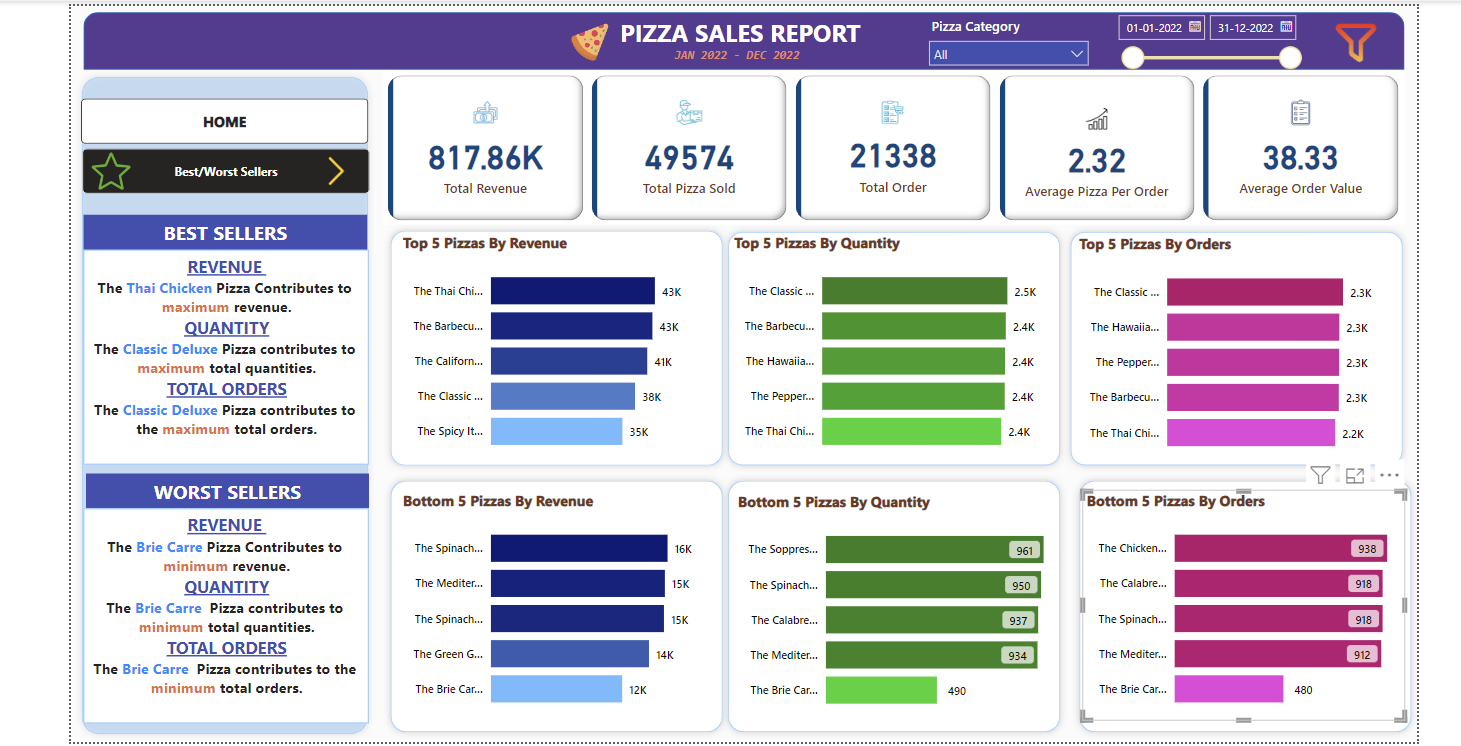

What the dashboard file says about the page in this screenshot:
{"tool":"powerbi","page":{"name":"Best/Worst Sellers","canvas":[1500,820],"ordinal":1},"visuals":[{"type":"shape","box":[4.2,71,334.1,747.6],"z":0},{"type":"cardVisual","fields":{"Data":["pizza_sales.Total_Revenue","pizza_sales.Total_Pizza_Sold","pizza_sales.Total_Order","pizza_sales.Average_Pizza_Per_Order","pizza_sales.Average_Order_Value"]},"box":[348,72.4,1137.4,171.2],"z":1000},{"type":"shape","box":[13.9,7,1471.5,64],"z":2000},{"type":"textbox","box":[590,6.7,310,65],"z":3000},{"type":"textbox","box":[666.7,40,168.3,30],"z":4000},{"type":"image","box":[535,13.3,86.7,53.3],"z":5000},{"type":"shape","box":[348.7,242.6,385.6,278],"z":6000},{"type":"textbox","box":[13.9,232.5,316,39],"z":7000},{"type":"textbox","box":[13.9,271.5,317.4,239.5],"z":8000},{"type":"textbox","box":[13.9,559.7,317.4,239.5],"z":9000},{"type":"textbox","box":[16.1,520.6,314.9,38.6],"z":10000},{"type":"slicer","fields":{"Values":["pizza_sales.pizza_category"]},"box":[944.7,6.4,197.6,65.9],"z":11000},{"type":"slicer","fields":{"Values":["pizza_sales.order_date"]},"box":[1153.6,0,224.9,72.3],"z":12000},{"type":"shape","box":[1105.4,244.2,385.6,276.4],"z":13000},{"type":"shape","box":[348.7,520.6,385.6,295.6],"z":14000},{"type":"shape","box":[724.6,520.6,385.6,295.6],"z":15000},{"type":"shape","box":[1115,520.6,385.6,295.6],"z":16000},{"type":"shape","box":[724.6,244.2,385.6,276.4],"z":17000},{"type":"barChart","title":"Top 5 Pizzas By Revenue","fields":{"Category":["pizza_sales.pizza_name"],"Y":["pizza_sales.Total Revenue"]},"box":[364.7,252.3,359.9,258.7],"z":18000},{"type":"barChart","title":"Bottom 5 Pizzas By Revenue","fields":{"Category":["pizza_sales.pizza_name"],"Y":["pizza_sales.Total Revenue"]},"box":[364.7,538.2,359.9,258.7],"z":19000},{"type":"barChart","title":"Top 5 Pizzas By Quantity","fields":{"Category":["pizza_sales.pizza_name"],"Y":["pizza_sales.Total Pizza Sold"]},"box":[734.3,252.3,359.9,258.7],"z":20000},{"type":"barChart","title":"Bottom 5 Pizzas By Quantity","fields":{"Category":["pizza_sales.pizza_name"],"Y":["pizza_sales.Total Pizza Sold"]},"box":[737.5,539.8,359.9,258.7],"z":21000},{"type":"barChart","title":"Top 5 Pizzas By Orders","fields":{"Category":["pizza_sales.pizza_name"],"Y":["pizza_sales.Total Order"]},"box":[1118.3,253.9,359.9,258.7],"z":22000},{"type":"barChart","title":"Bottom 5 Pizzas By Orders","fields":{"Category":["pizza_sales.pizza_name"],"Y":["pizza_sales.Total Order"]},"box":[1126.3,538.2,359.9,258.7],"z":23000},{"type":"pageNavigator","box":[11.1,103,320.2,50.1],"z":24000},{"type":"pageNavigator","box":[12.5,158.7,320.2,50.1],"z":25000},{"type":"image","box":[271.5,162.9,47.3,41.8],"z":26000},{"type":"image","box":[16.7,157.3,55.7,52.9],"z":27000},{"type":"image","box":[1393.6,4.2,75.2,72.4],"z":28000}]}

Visuals, with their boxes on the page's 1500x820 design canvas (x1, y1, x2, y2). These are canvas units, not pixel positions in the 1461x746 screenshot, which may show the page scaled, cropped or inside an application window:
shape: x1=4, y1=71, x2=338, y2=819
cardVisual - pizza_sales.Total_Revenue x pizza_sales.Total_Pizza_Sold: x1=348, y1=72, x2=1485, y2=244
shape: x1=14, y1=7, x2=1485, y2=71
textbox: x1=590, y1=7, x2=900, y2=72
textbox: x1=667, y1=40, x2=835, y2=70
image: x1=535, y1=13, x2=622, y2=67
shape: x1=349, y1=243, x2=734, y2=521
textbox: x1=14, y1=232, x2=330, y2=272
textbox: x1=14, y1=272, x2=331, y2=511
textbox: x1=14, y1=560, x2=331, y2=799
textbox: x1=16, y1=521, x2=331, y2=559
slicer - pizza_sales.pizza_category: x1=945, y1=6, x2=1142, y2=72
slicer - pizza_sales.order_date: x1=1154, y1=0, x2=1378, y2=72
shape: x1=1105, y1=244, x2=1491, y2=521
shape: x1=349, y1=521, x2=734, y2=816
shape: x1=725, y1=521, x2=1110, y2=816
shape: x1=1115, y1=521, x2=1501, y2=816
shape: x1=725, y1=244, x2=1110, y2=521
"Top 5 Pizzas By Revenue" barChart: x1=365, y1=252, x2=725, y2=511
"Bottom 5 Pizzas By Revenue" barChart: x1=365, y1=538, x2=725, y2=797
"Top 5 Pizzas By Quantity" barChart: x1=734, y1=252, x2=1094, y2=511
"Bottom 5 Pizzas By Quantity" barChart: x1=738, y1=540, x2=1097, y2=798
"Top 5 Pizzas By Orders" barChart: x1=1118, y1=254, x2=1478, y2=513
"Bottom 5 Pizzas By Orders" barChart: x1=1126, y1=538, x2=1486, y2=797
pageNavigator: x1=11, y1=103, x2=331, y2=153
pageNavigator: x1=12, y1=159, x2=333, y2=209
image: x1=272, y1=163, x2=319, y2=205
image: x1=17, y1=157, x2=72, y2=210
image: x1=1394, y1=4, x2=1469, y2=77
